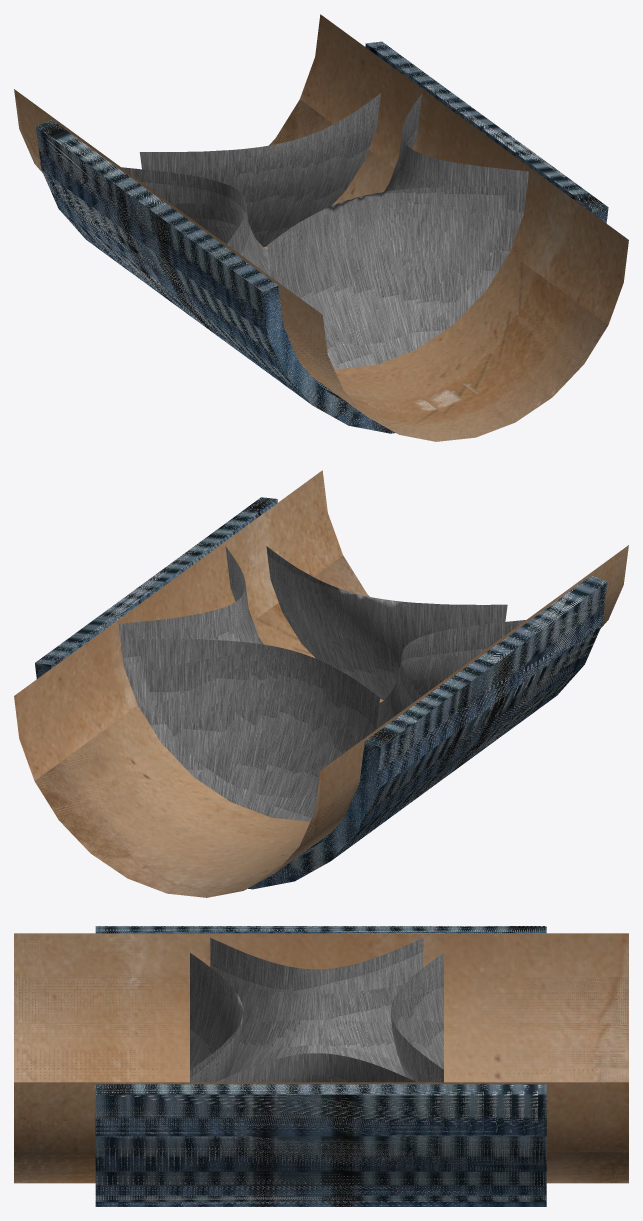
File: penningtrap_half.dae
The picture shows the model from 3 angles, top to bottom: view 1: azimuth 30°, elevation 25°; view 2: azimuth 150°, elevation 25°; view 3: azimuth 270°, elevation 25°; orthographic projection.
Visible parts, largest first — view 1: group_3 (×10), group_0 (×2), group_2, group_1; view 2: group_3 (×10), group_0 (×2), group_2, group_1; view 3: group_3 (×8), group_2, group_1, group_0 (×2).
Boxes of the visible parts, x1,y1,x2,y2 form: group_3 (×10): (14,14,628,441); group_0 (×2): (139,93,508,345); group_2: (35,41,608,433); group_1: (121,93,529,369); group_3 (×10): (14,470,628,897); group_0 (×2): (139,546,507,797); group_2: (35,497,607,889); group_1: (118,546,525,821); group_3 (×8): (14,933,628,1183); group_2: (95,926,546,1206); group_1: (210,938,423,1082); group_0 (×2): (190,953,443,1082).
Size of the model in its own units: 216 by 334 by 108.
